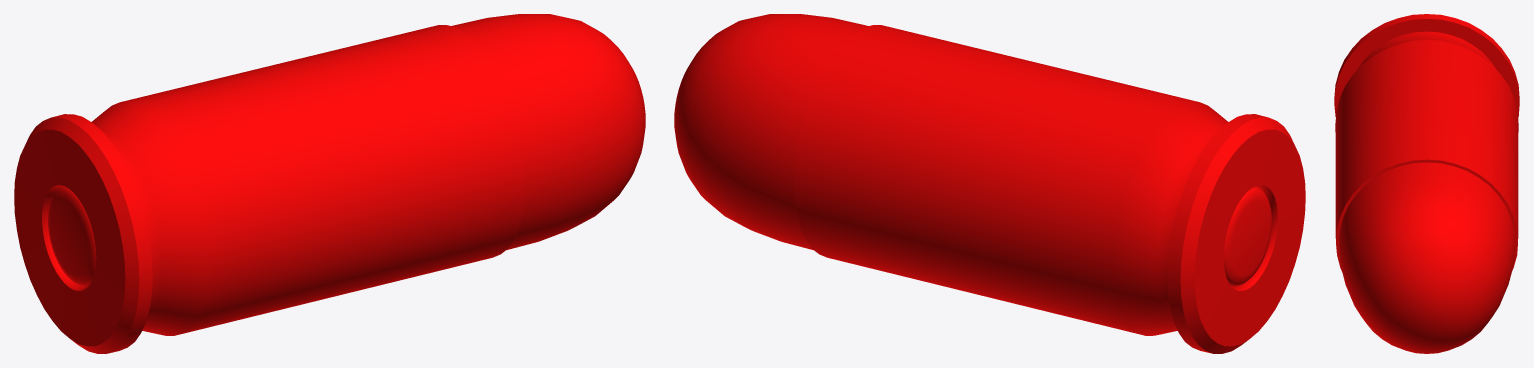
File: bala.fbx
3 renders of one model, left to right at view 1: azimuth 30°, elevation 25°; view 2: azimuth 150°, elevation 25°; view 3: azimuth 270°, elevation 25°, orthographic. The views are drawn at different scales.
Parts seen in each view (by area): view 1: Bullet_case_Low, Main_bullet_Low, Back_part_Low; view 2: Bullet_case_Low, Main_bullet_Low, Back_part_Low; view 3: Bullet_case_Low, Main_bullet_Low.
Part boxes in pixels (bbox=[...]): Bullet_case_Low: bbox=[14, 25, 525, 353]; Main_bullet_Low: bbox=[451, 14, 645, 249]; Back_part_Low: bbox=[48, 186, 96, 286]; Bullet_case_Low: bbox=[794, 25, 1305, 353]; Main_bullet_Low: bbox=[674, 14, 868, 249]; Back_part_Low: bbox=[1223, 186, 1271, 286]; Bullet_case_Low: bbox=[1334, 14, 1519, 271]; Main_bullet_Low: bbox=[1339, 162, 1514, 353].
Size of the model in its own units: 3.24 by 1.21 by 1.21.
